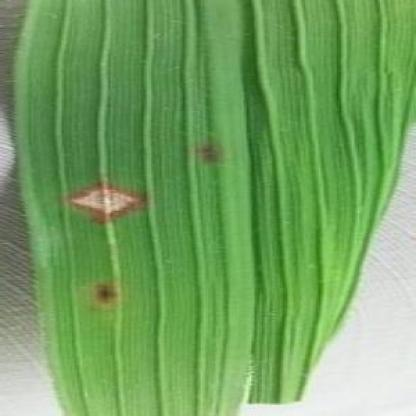Rice blast: (65, 170, 144, 226)
